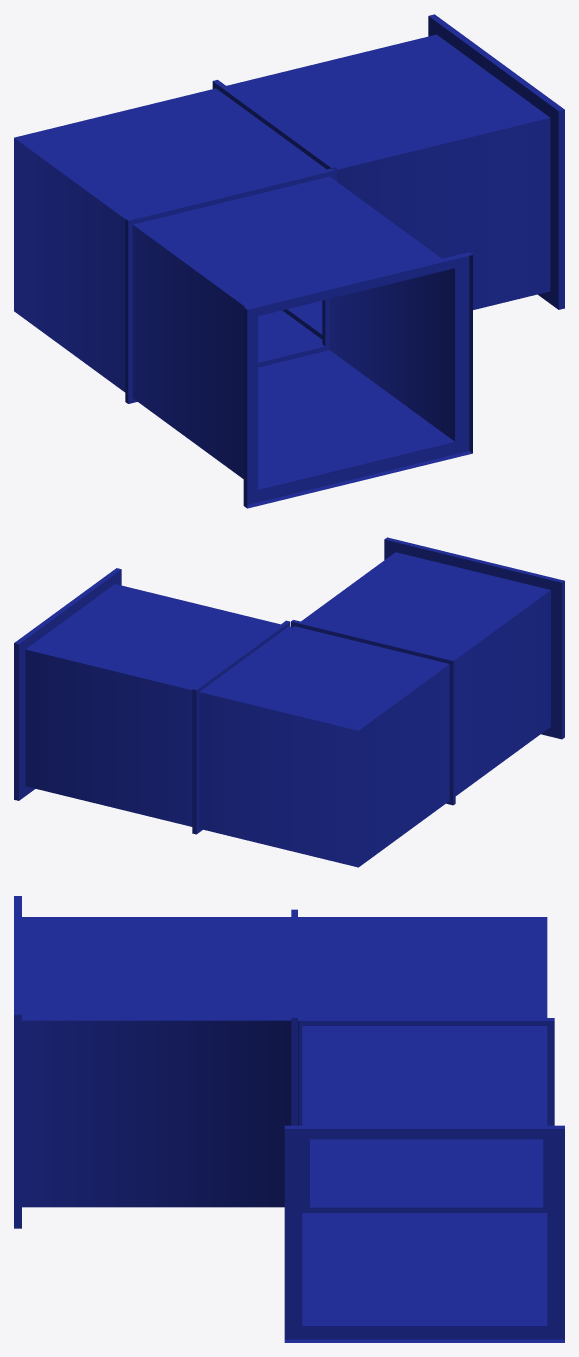
3 renders of one model, top to bottom at view 1: azimuth 30°, elevation 25°; view 2: azimuth 150°, elevation 25°; view 3: azimuth 270°, elevation 25°, orthographic. The views are drawn at different scales.
Parts seen in each view (by area): view 1: Box003; view 2: Box003; view 3: Box003.
Boxes of the visible parts, bbox=[...] form: Box003: bbox=[14, 14, 564, 508]; Box003: bbox=[14, 537, 564, 867]; Box003: bbox=[14, 896, 564, 1342].
Size of the model in its own units: 66.83 by 28.63 by 66.83.
